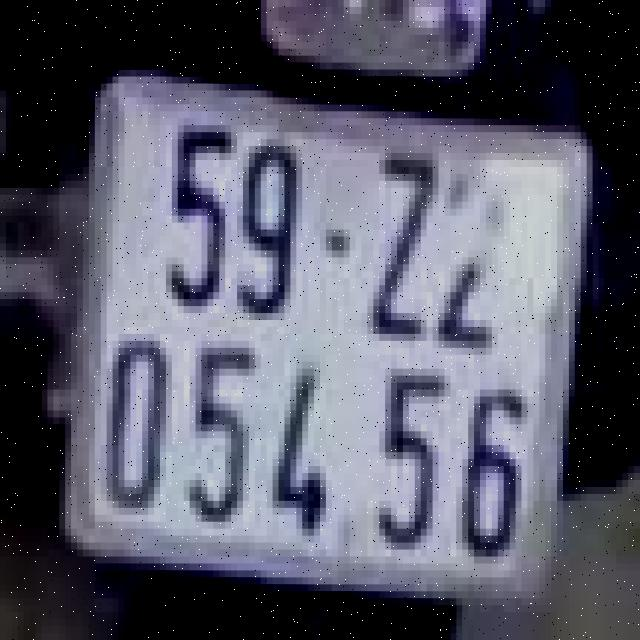0: (98, 330, 181, 526)
2: (436, 160, 518, 355)
4: (264, 341, 335, 542)
5: (186, 327, 258, 543), (380, 368, 450, 556), (172, 115, 231, 330)
6: (459, 379, 548, 574)
9: (237, 125, 302, 313)
Z: (358, 146, 442, 334)
